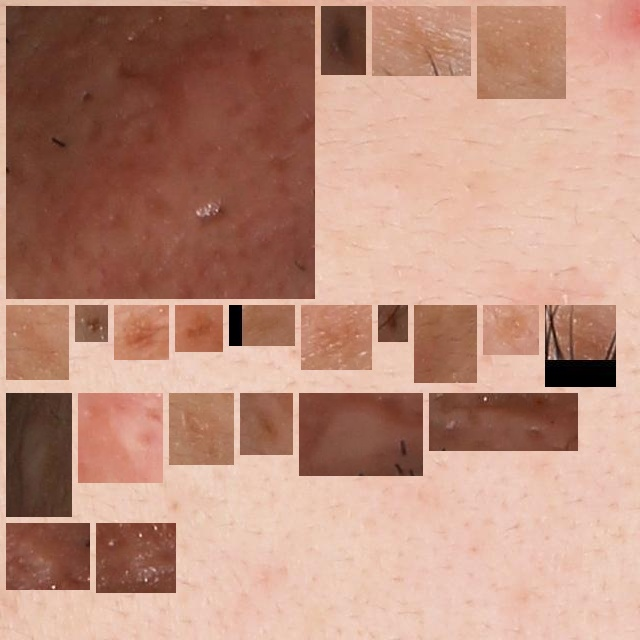hypertrophic_scar: (14, 14, 307, 291), (307, 401, 415, 468), (437, 401, 570, 443), (14, 401, 64, 509), (86, 401, 155, 475), (14, 531, 82, 582), (104, 531, 168, 585)
melasma: (485, 14, 558, 91), (380, 14, 463, 68), (553, 313, 608, 379), (422, 313, 469, 375), (14, 313, 61, 372), (177, 401, 226, 457), (309, 313, 364, 362), (248, 401, 285, 447), (491, 313, 531, 347), (237, 313, 287, 338)
nevus: (329, 14, 358, 67), (122, 313, 161, 352), (183, 313, 215, 344), (83, 313, 100, 334), (386, 313, 400, 334)
